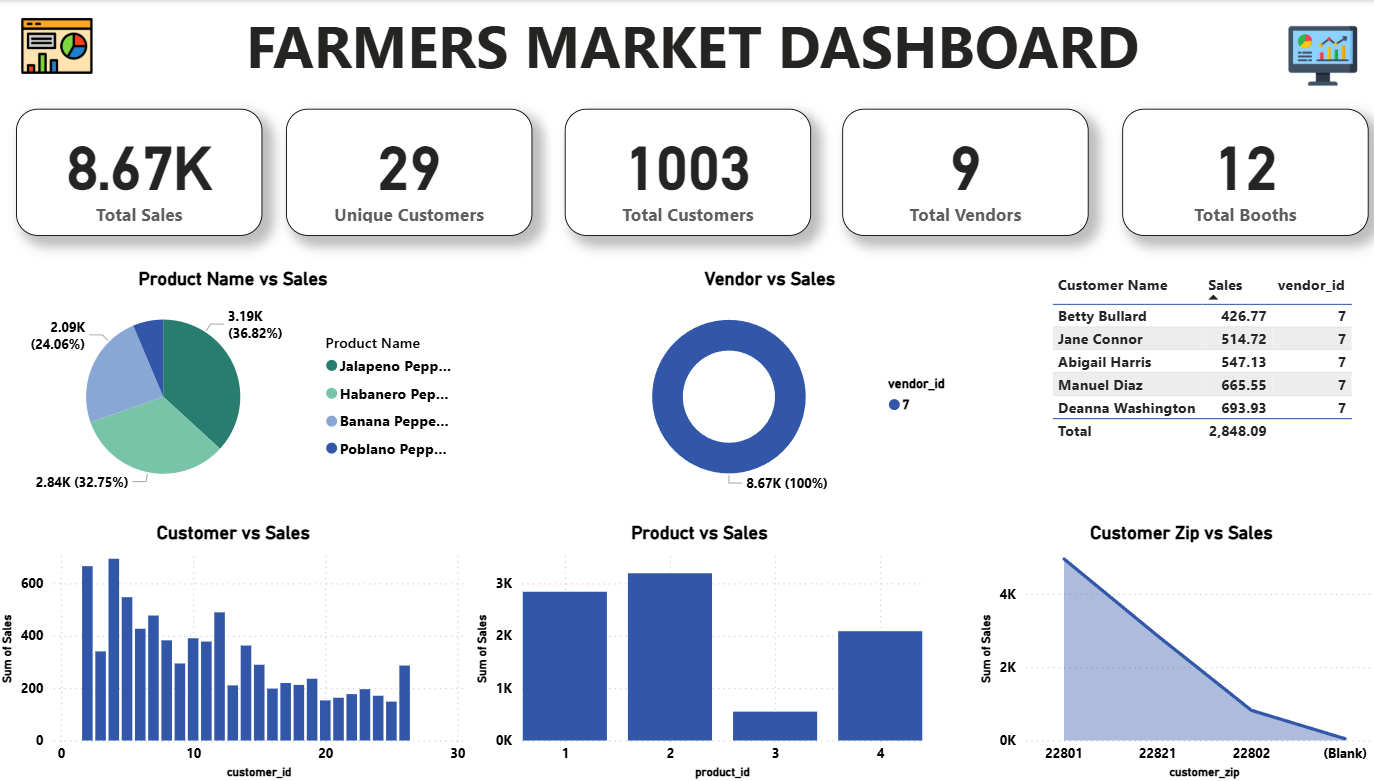

What the dashboard file says about the page in this screenshot:
{"tool":"powerbi","page":{"name":"Sales Wise Analysis","canvas":[1280,720],"ordinal":1},"visuals":[{"type":"columnChart","title":"Customer vs Sales","fields":{"Category":["customer_purchases.customer_id"],"Y":["customer_purchases.Sales"]},"box":[0,478.9,436.4,241.5],"z":0},{"type":"clusteredColumnChart","title":"Product vs Sales","fields":{"Category":["product.product_id"],"Y":["customer_purchases.Sales"]},"box":[436.4,478.9,419.9,241.5],"z":1000},{"type":"pieChart","title":"Product Name vs Sales","fields":{"Category":["product.product_name"],"Y":["customer_purchases.Sales"]},"box":[0,245.7,435.7,218.6],"z":2000},{"type":"donutChart","title":"Vendor vs Sales","fields":{"Category":["customer_purchases.vendor_id"],"Y":["customer_purchases.Sales"]},"box":[522.9,245.7,377.1,218.6],"z":3000},{"type":"textbox","box":[0,0,1280.3,100.2],"z":4000},{"type":"image","box":[17.8,4.1,75.5,75.5],"z":5000},{"type":"image","box":[1180.1,15.1,79.6,72.7],"z":6000},{"type":"card","fields":{"Values":["customer_purchases.customer_id"]},"box":[266.2,100.2,226.4,116.6],"z":7000},{"type":"card","fields":{"Values":["vendor.vendor_id"]},"box":[778,100.2,226.4,116.6],"z":8000},{"type":"card","fields":{"Values":["booth.booth_number"]},"box":[1034.7,100.2,226.4,116.6],"z":9000},{"type":"card","fields":{"Values":["customer_purchases.customer_id"]},"box":[522.8,100.2,226.4,116.6],"z":10000},{"type":"areaChart","title":"Customer Zip vs Sales","fields":{"Category":["customer.customer_zip"],"Y":["customer_purchases.Sales"]},"box":[900,478.6,380,241.4],"z":11000},{"type":"card","fields":{"Values":["customer_purchases.Total_Sales"]},"box":[17.8,100.2,226.4,116.6],"z":12000},{"type":"tableEx","fields":{"Values":["customer.Customer_Full_Name","customer_purchases.Sales","customer_purchases.vendor_id"]},"box":[965,246.2,295,192.5],"z":13000}]}

Visuals, with their boxes in screenshot pixels (x1, y1, x2, y2), scaled from the page's 1280x720 canvas onto the 1374x781 screenshot:
"Customer vs Sales" columnChart: [left=0, top=519, right=468, bottom=780]
"Product vs Sales" clusteredColumnChart: [left=468, top=519, right=919, bottom=780]
"Product Name vs Sales" pieChart: [left=0, top=267, right=468, bottom=504]
"Vendor vs Sales" donutChart: [left=561, top=267, right=966, bottom=504]
textbox: [left=0, top=0, right=1373, bottom=109]
image: [left=19, top=4, right=100, bottom=86]
image: [left=1267, top=16, right=1352, bottom=95]
card - customer_purchases.customer_id: [left=286, top=109, right=529, bottom=235]
card - vendor.vendor_id: [left=835, top=109, right=1078, bottom=235]
card - booth.booth_number: [left=1111, top=109, right=1354, bottom=235]
card - customer_purchases.customer_id: [left=561, top=109, right=804, bottom=235]
"Customer Zip vs Sales" areaChart: [left=966, top=519, right=1373, bottom=780]
card - customer_purchases.Total_Sales: [left=19, top=109, right=262, bottom=235]
tableEx - customer.Customer_Full_Name x customer_purchases.Sales: [left=1036, top=267, right=1353, bottom=476]
